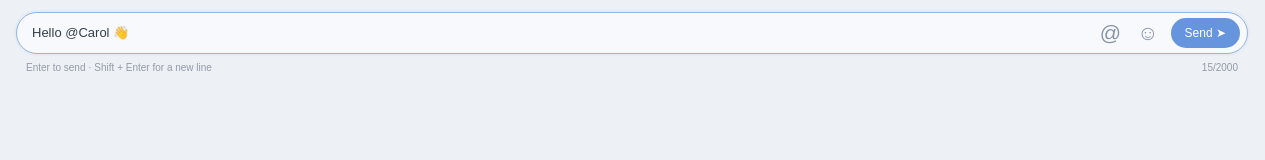
Scenario: Chat composer › searches and inserts emojis, selects a mention, and sends the composed message
Earlier steps of the test are not shown.
Expected: the text box named "Message" holds "Hello @Carol 👋", [32, 19, 1088, 47]
Click the button "Send ➤" at [1205, 33], box [1171, 18, 1240, 48]
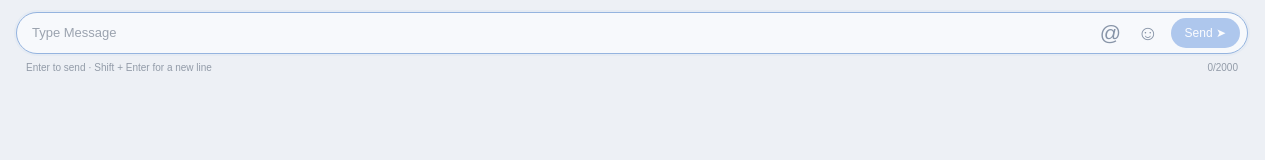
Result: the text box labelled "Message" is empty at [32, 19, 1088, 47]
